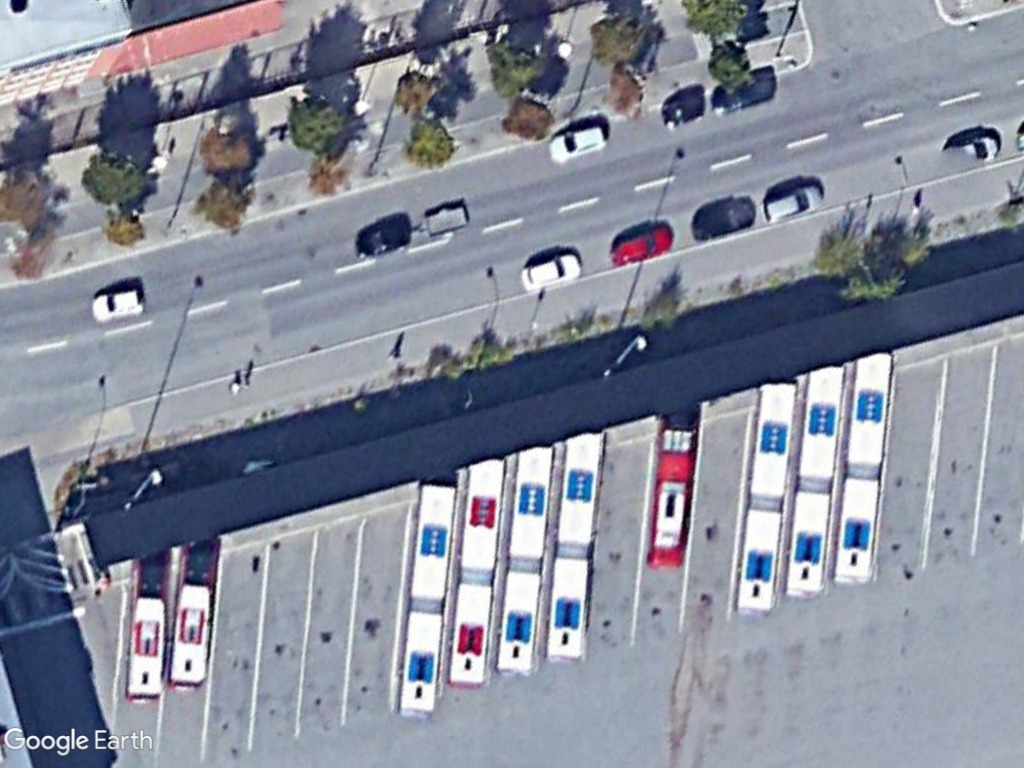bus: (826, 338, 900, 591), (391, 472, 460, 727), (441, 449, 512, 693), (734, 375, 804, 618), (544, 421, 609, 674), (785, 353, 849, 603), (493, 442, 557, 686), (156, 530, 225, 696), (638, 401, 701, 574), (123, 543, 173, 710)
car: (514, 245, 588, 299), (605, 217, 679, 270), (542, 120, 615, 170), (758, 179, 828, 229), (86, 279, 147, 326)
